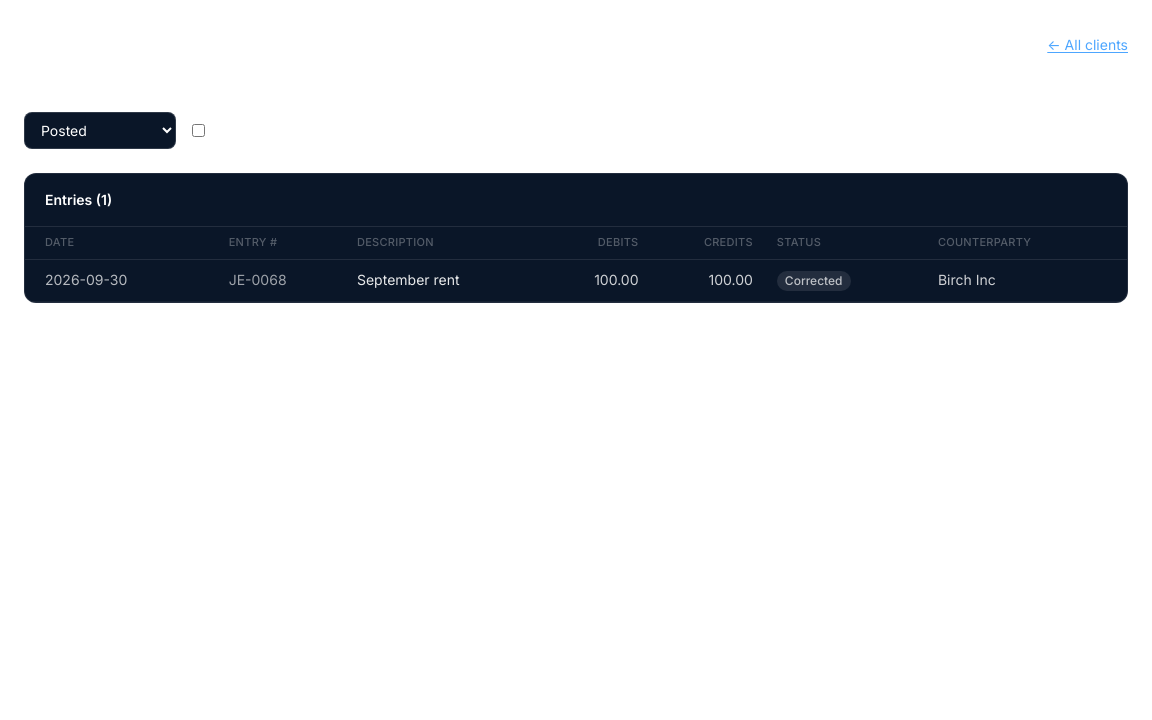
Test case: staff client entries — writes on the live entry only (D-S85-13) › opens the live entry from the chain panel, read by id from the staff detail endpoint
This screenshot has width=1152, height=720.
Click the text "JE-0068": coordinates (281, 280) [217,259,345,301]
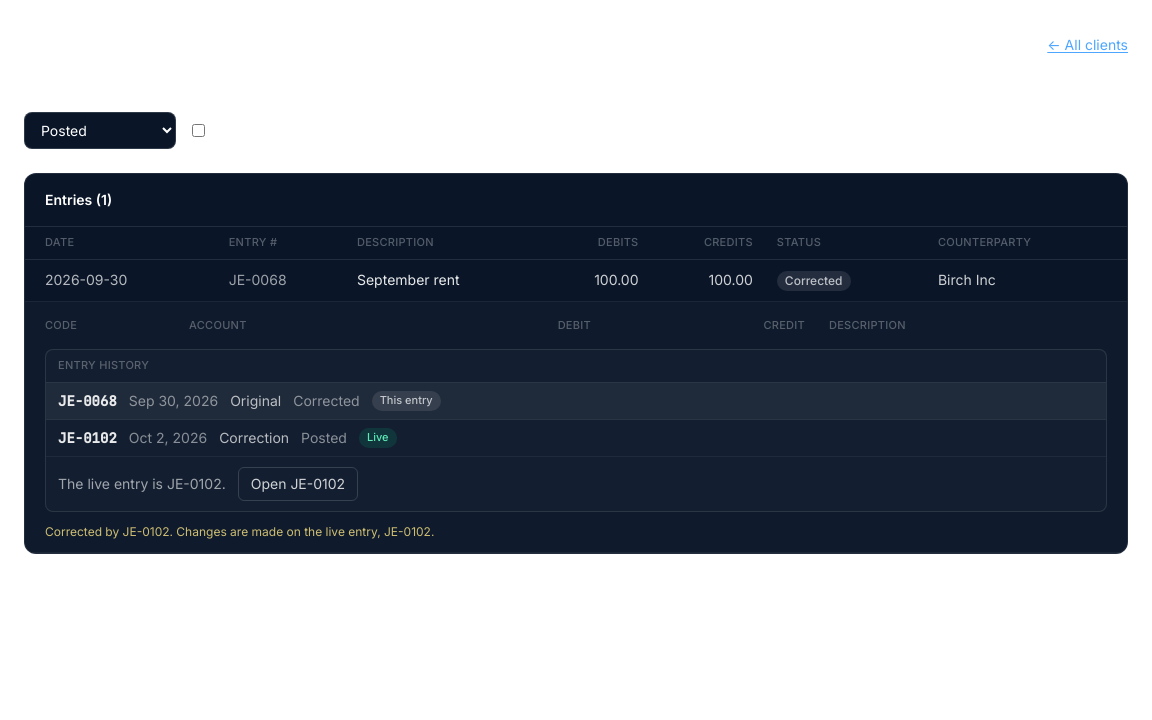
Click the button "Open JE-0102": coordinates (298, 484) [238,467,358,501]
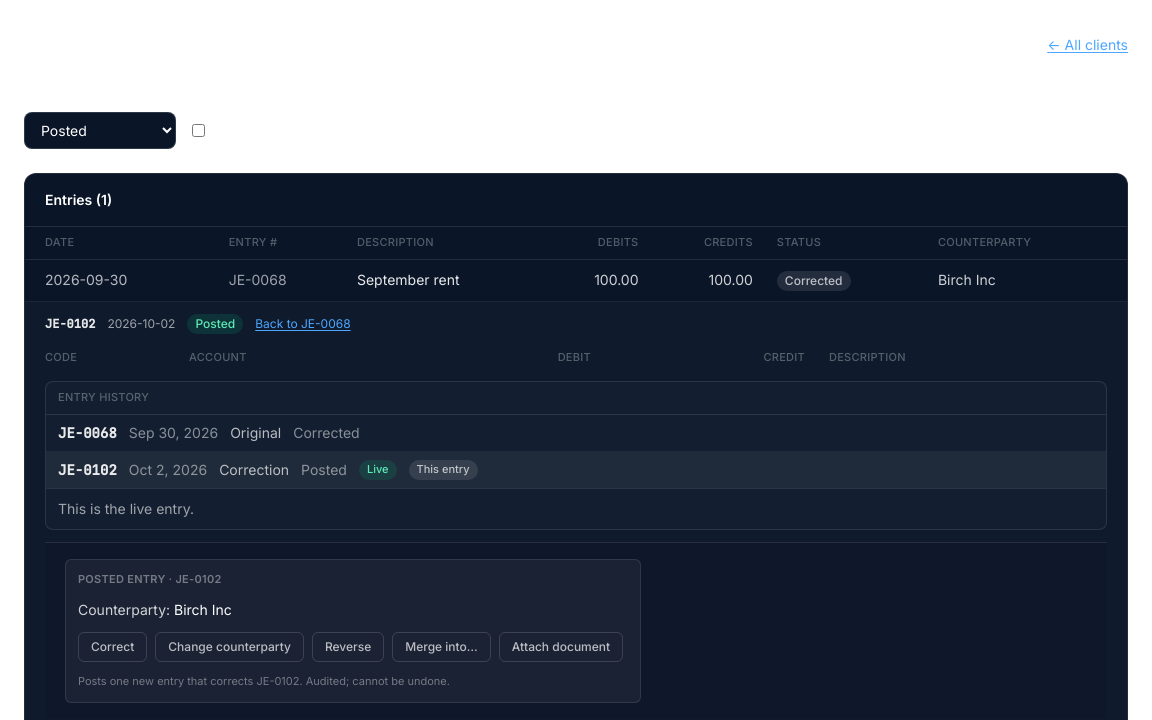
Check: the button "Correct" is shown, box [78,632,147,662]
Check: the text "This is the live entry." is shown, box [58,499,194,519]
Click the button "Back to JE-0068": coordinates (303, 324) [255,316,351,332]
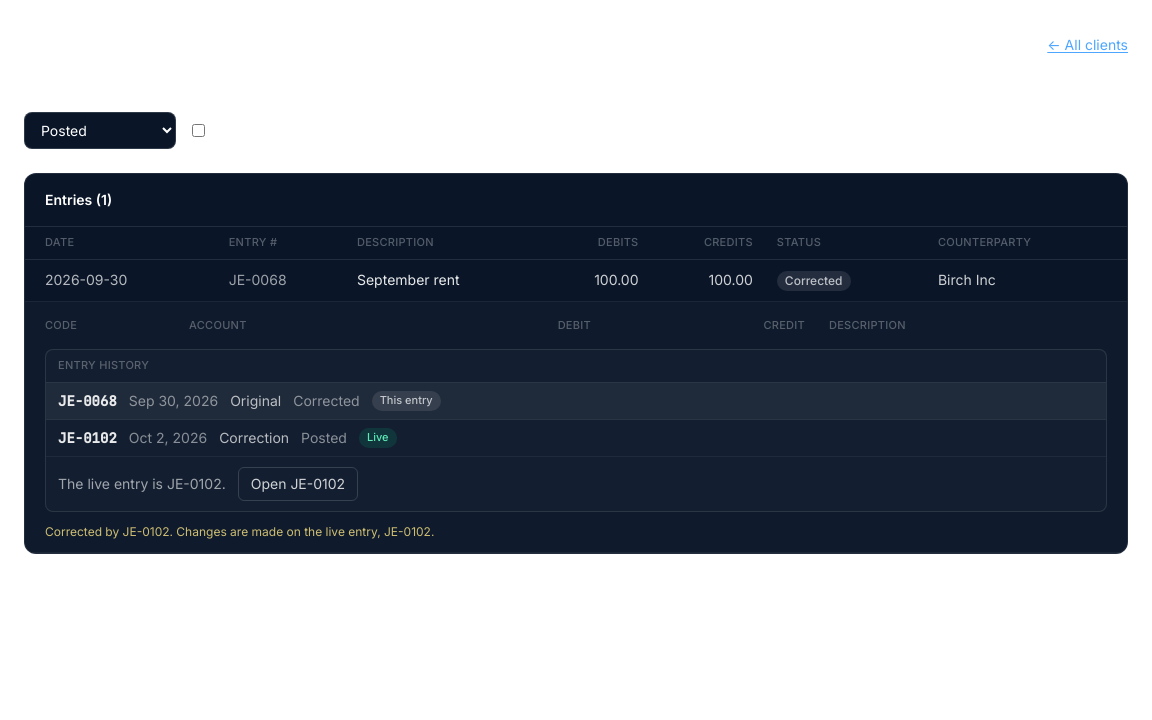
Check: the text "Corrected by JE-0102. Changes are made on the live entry, JE-0102." is shown, box [45,524,434,539]
